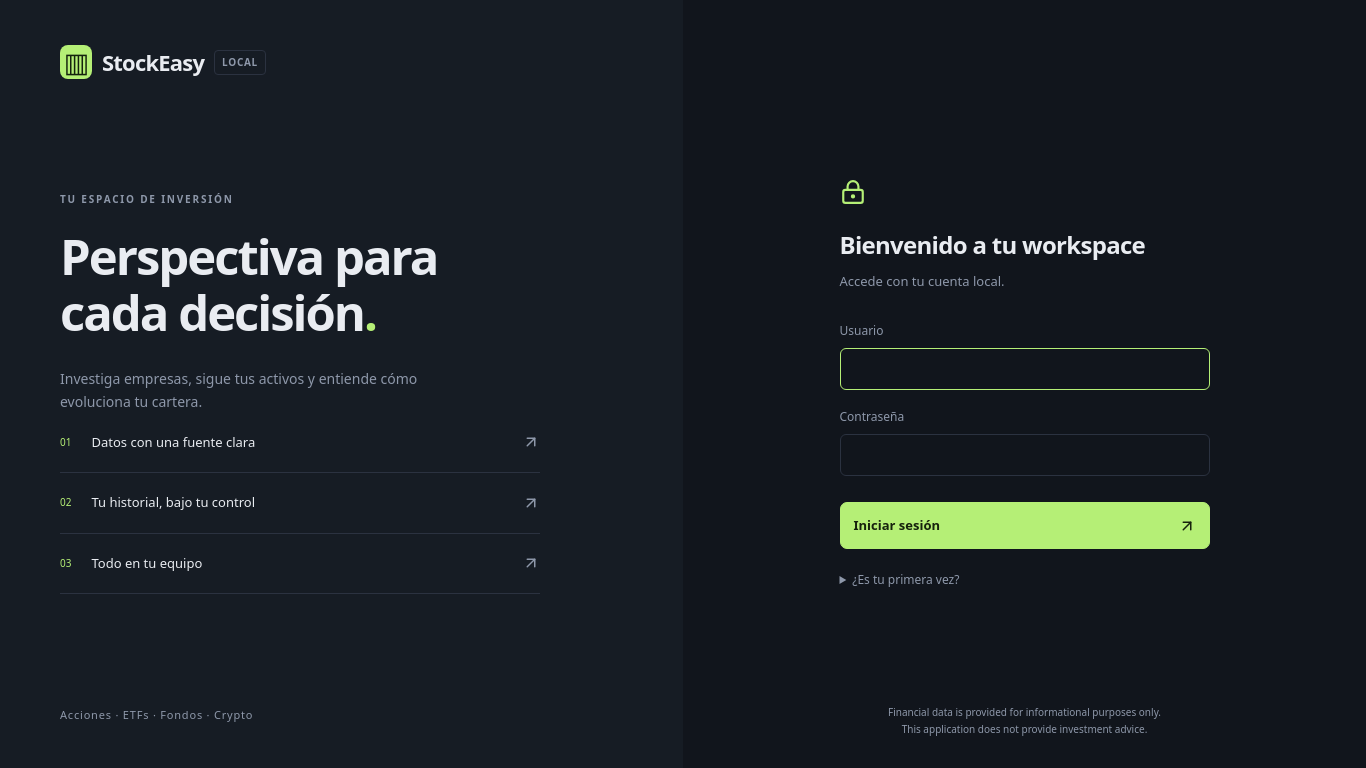
Test: login sends credentials and shows authentication errors
This screenshot has width=1366, height=768.
Step 1. Type "alice" into the field labelled "Usuario" → (1024, 369), box left=840, top=348, right=1210, bottom=390
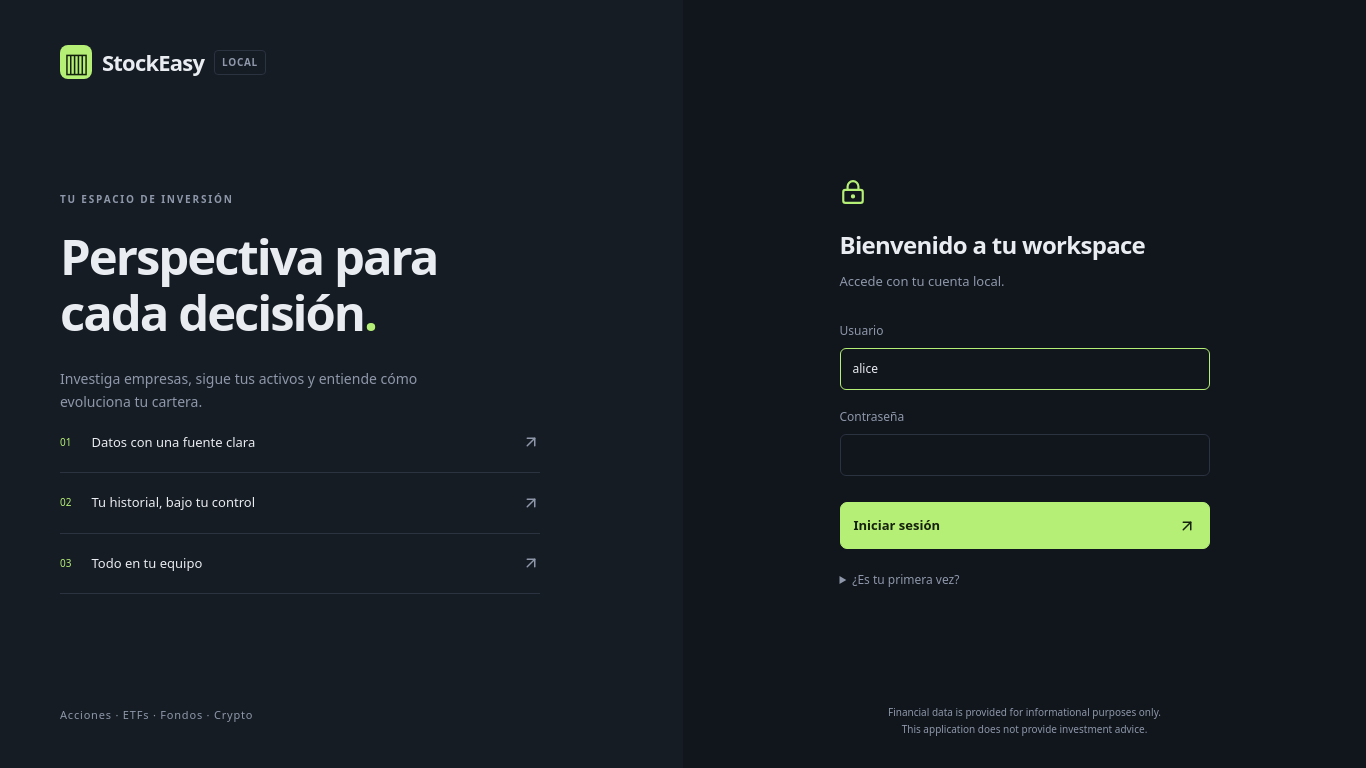
Step 2. Type "wrong" into the password field labelled "Contraseña" → (1024, 455), box left=840, top=434, right=1210, bottom=476
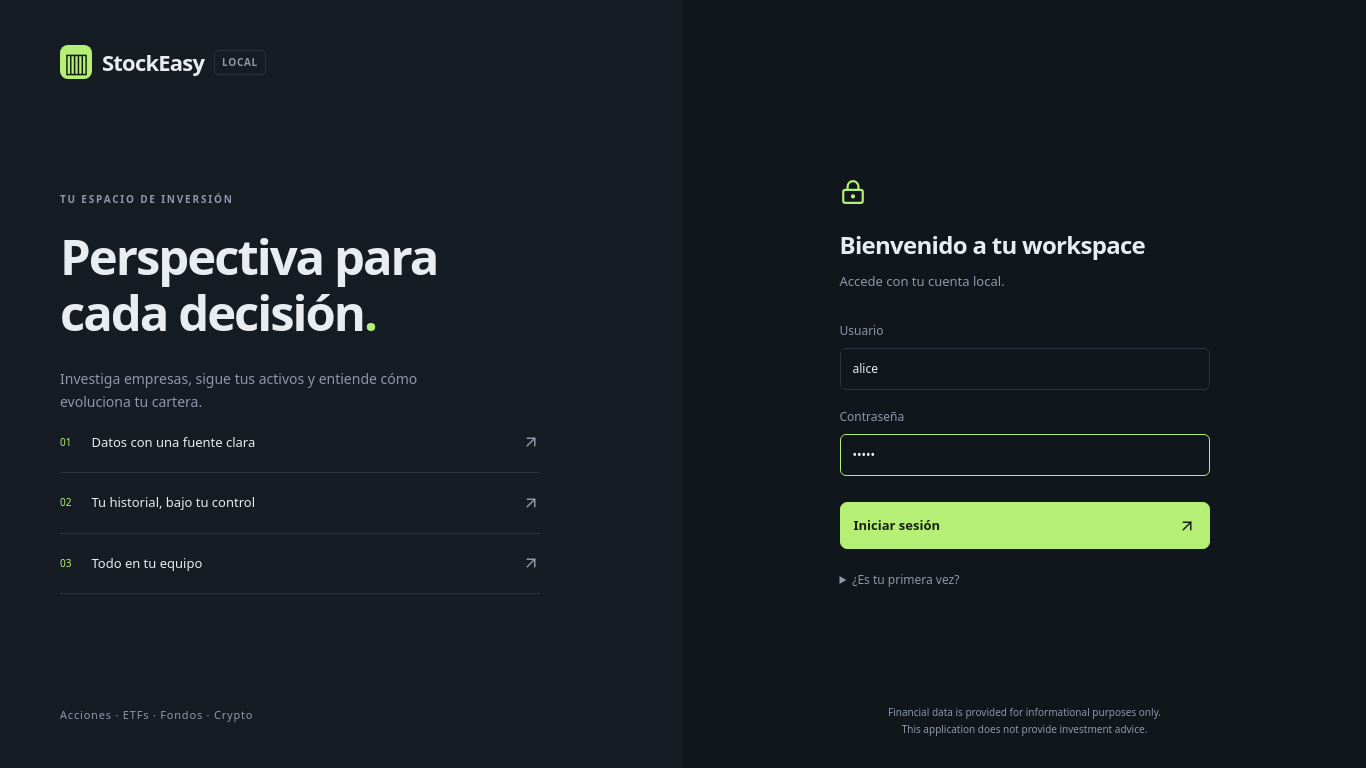
Step 3. Click the button "Iniciar sesión" → (897, 525), box left=840, top=502, right=1210, bottom=550
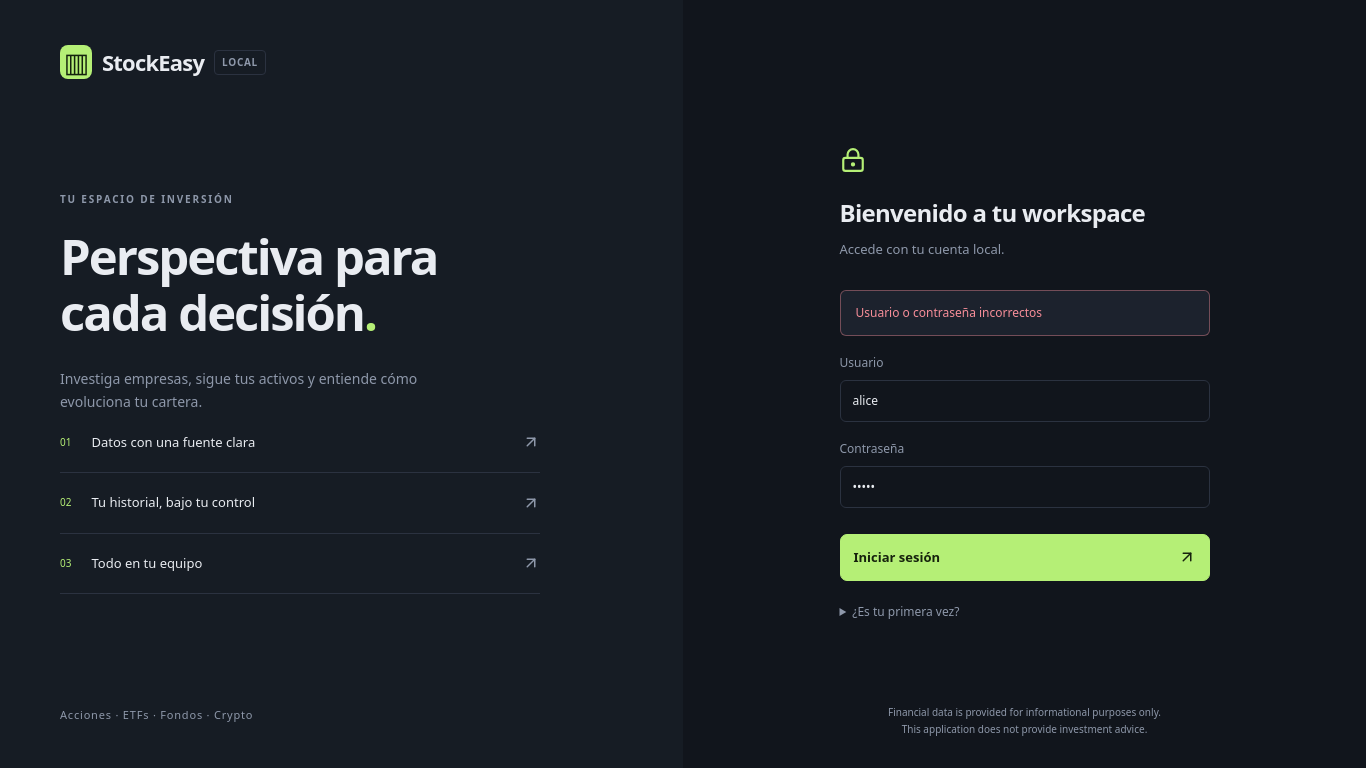
Check: the message reads "Usuario o contraseña incorrectos", box left=856, top=304, right=1042, bottom=321
